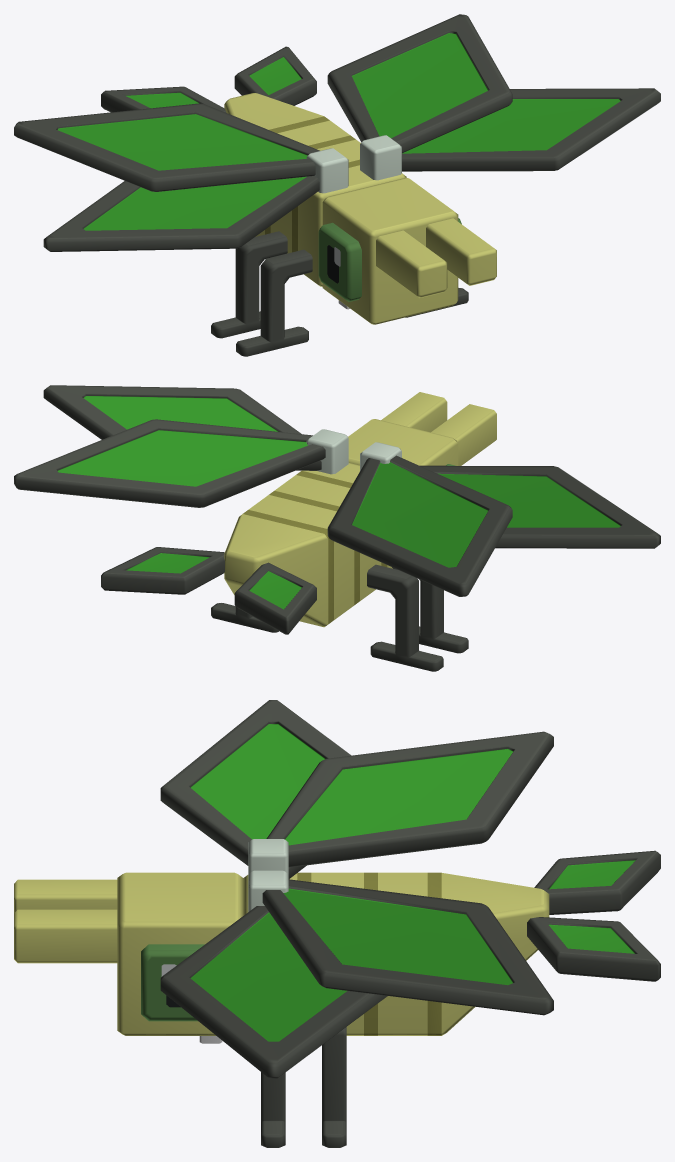
The picture shows the model from 3 angles, top to bottom: view 1: azimuth 30°, elevation 25°; view 2: azimuth 150°, elevation 25°; view 3: azimuth 270°, elevation 25°; orthographic projection. The views are drawn at different scales.
Visible parts, largest first — view 1: model; view 2: model; view 3: model.
Part boxes in pixels (bbox=[...]): model: bbox=[14, 14, 660, 356]; model: bbox=[14, 385, 660, 671]; model: bbox=[14, 700, 660, 1147].
Bounding box in the file's own units: 4.06 × 1.14 × 3.04.
